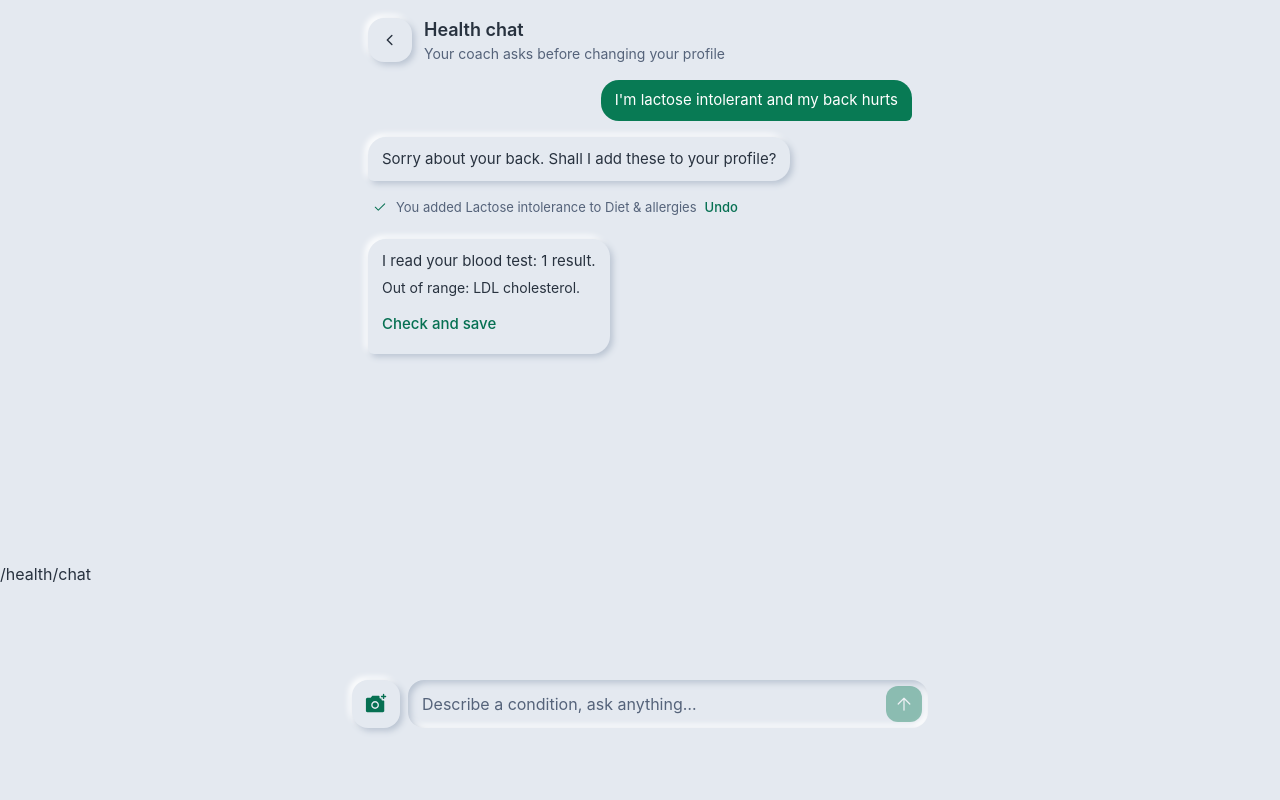
Test: the Health chat › shows added proposals with Undo, and a read record to check and save
Check: the text "You added Lactose intolerance to Diet & allergies" is shown, box [396,198,696,217]
Click the button "Undo" at (721, 207), box [704,191,738,223]
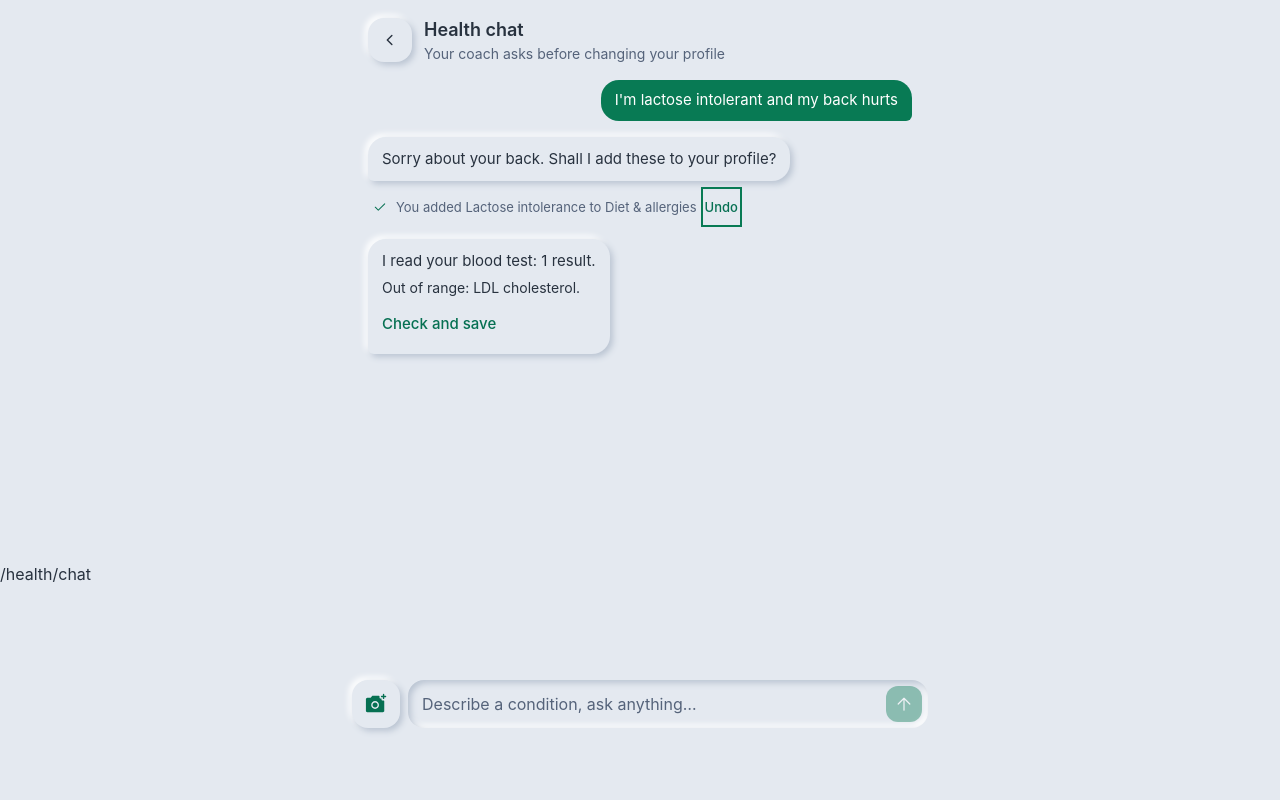
Check: the text "I read your blood test: 1 result." is shown, box [382,251,596,272]
Check: the text "Out of range: LDL cholesterol." is shown, box [382,278,596,298]
Click the button "Check and save" at (439, 324), box [382,306,496,342]
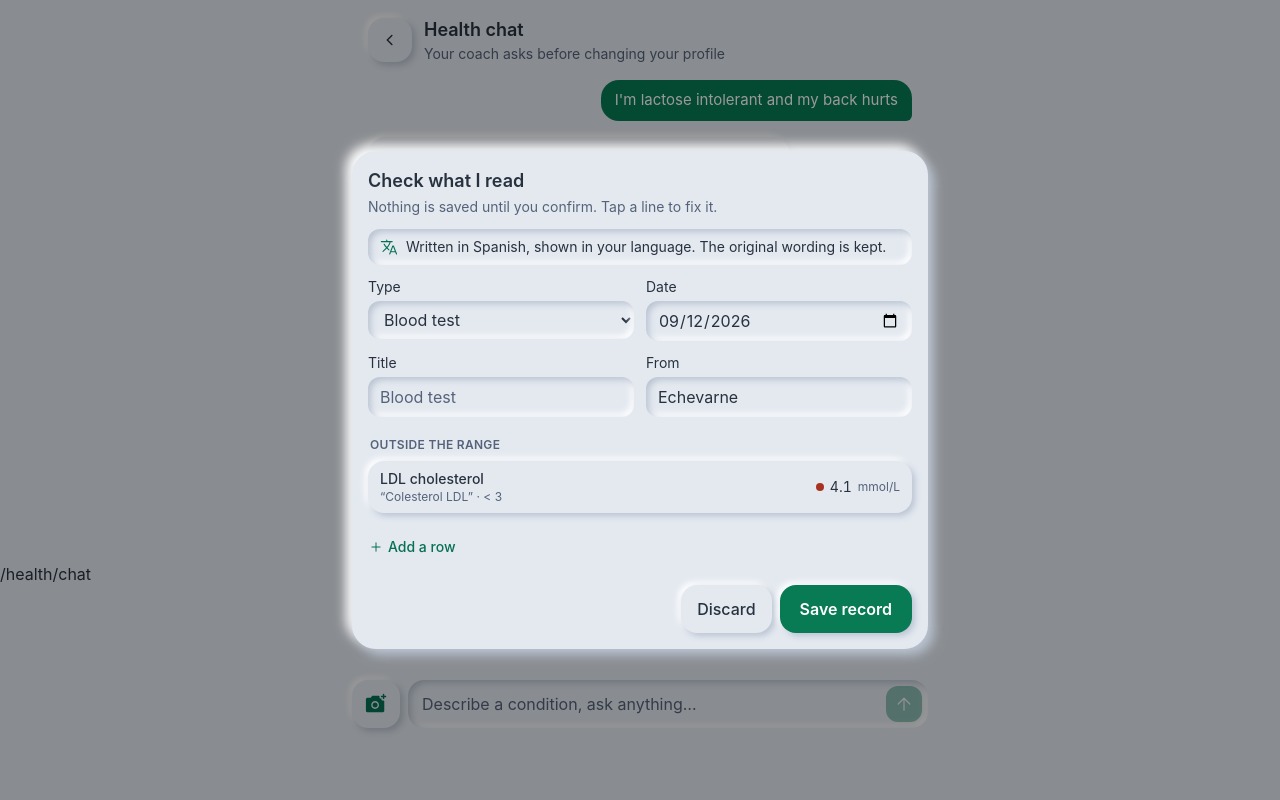
Check: the dialog "Check what I read" is shown
